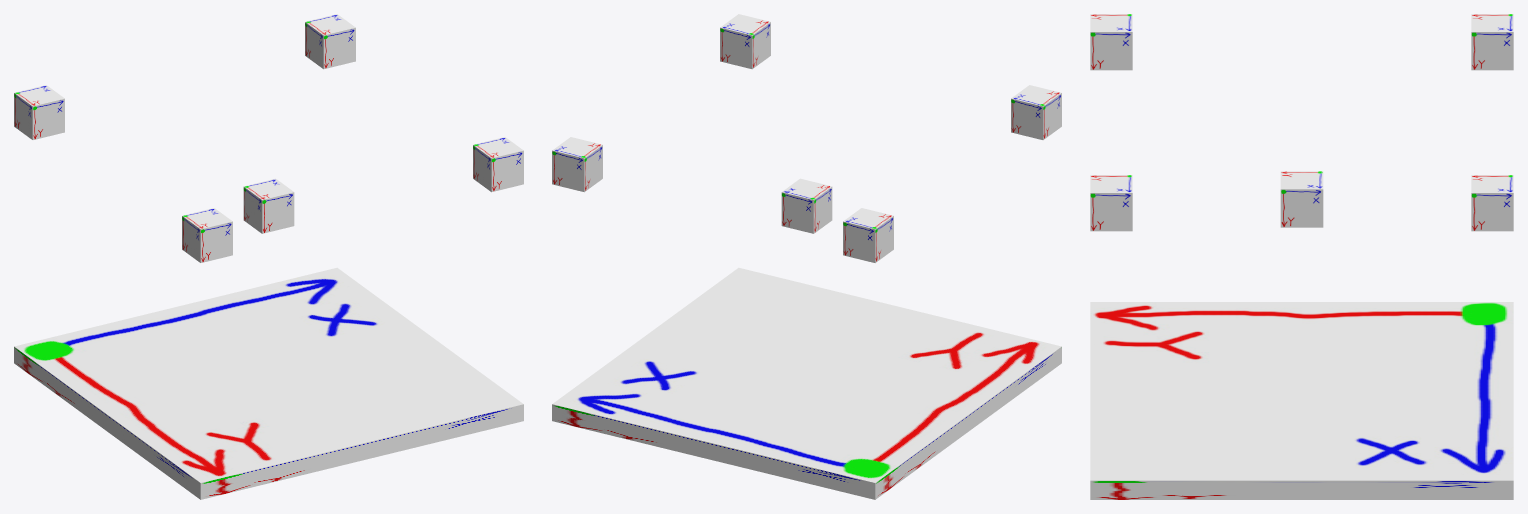
Rendered from hierarchy.DAE.
The picture shows the model from 3 angles, left to right: view 1: azimuth 30°, elevation 25°; view 2: azimuth 150°, elevation 25°; view 3: azimuth 270°, elevation 25°; orthographic projection. The views are drawn at different scales.
Visible parts, largest first — view 1: plane, level1_box, Box01, Box03, Box02, Box04; view 2: plane, level1_box, Box01, Box03, Box02, Box04; view 3: plane, level1_box, Box01, Box02, Box03, Box04.
Boxes of the visible parts, bbox=[...] form: plane: bbox=[14, 267, 523, 499]; level1_box: bbox=[243, 178, 294, 233]; Box01: bbox=[305, 14, 355, 69]; Box03: bbox=[473, 137, 523, 192]; Box02: bbox=[14, 85, 64, 139]; Box04: bbox=[182, 208, 232, 262]; plane: bbox=[552, 267, 1061, 499]; level1_box: bbox=[781, 178, 832, 233]; Box01: bbox=[552, 137, 602, 192]; Box03: bbox=[720, 14, 770, 69]; Box02: bbox=[843, 208, 893, 262]; Box04: bbox=[1011, 85, 1061, 139]; plane: bbox=[1090, 302, 1513, 499]; level1_box: bbox=[1280, 171, 1323, 227]; Box01: bbox=[1471, 175, 1513, 231]; Box02: bbox=[1471, 14, 1513, 70]; Box03: bbox=[1090, 175, 1132, 231]; Box04: bbox=[1090, 14, 1132, 70].
Bounding box in the file's own units: 200 × 200 × 160.
